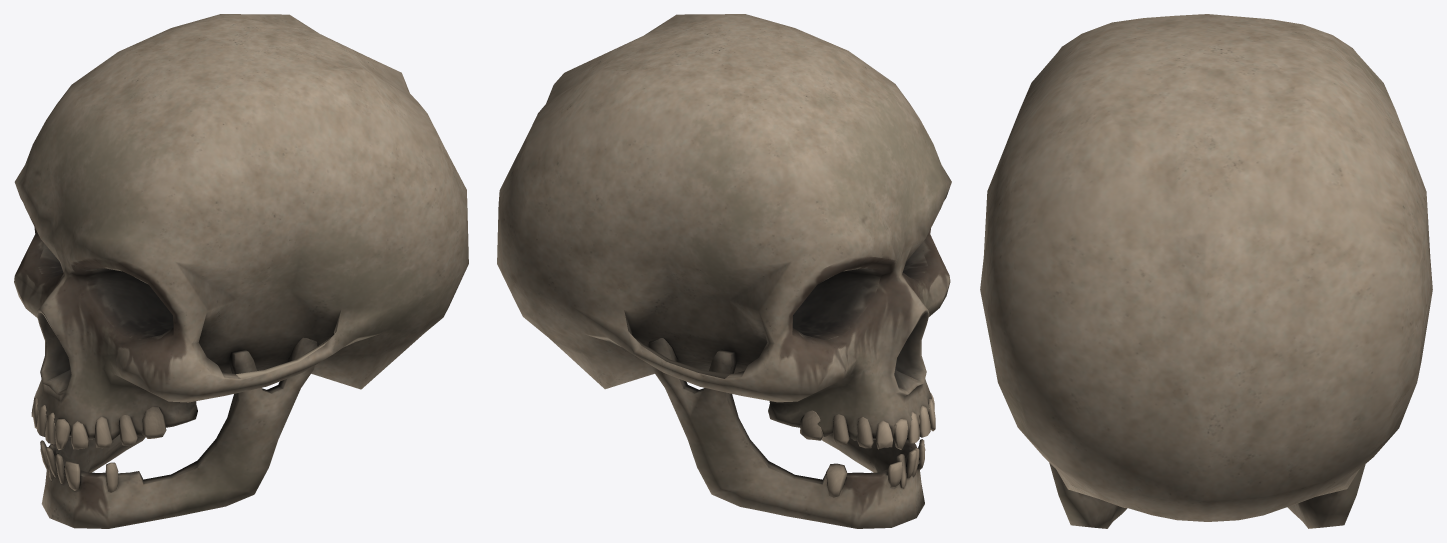
The model's file is skull.glb.
3 views of the same model, side by side, from view 1: azimuth 30°, elevation 25°; view 2: azimuth 150°, elevation 25°; view 3: azimuth 270°, elevation 25° (orthographic). The views are drawn at different scales.
Visible parts, largest first — view 1: skull_low; view 2: skull_low; view 3: skull_low.
Boxes of the visible parts, x1,y1,x2,y2 form: skull_low: [14, 14, 468, 528]; skull_low: [497, 14, 951, 528]; skull_low: [980, 14, 1432, 528].
Size of the model in its own units: 73.79 by 77.55 by 58.33.
Materials: 1 (1 with a texture image).
